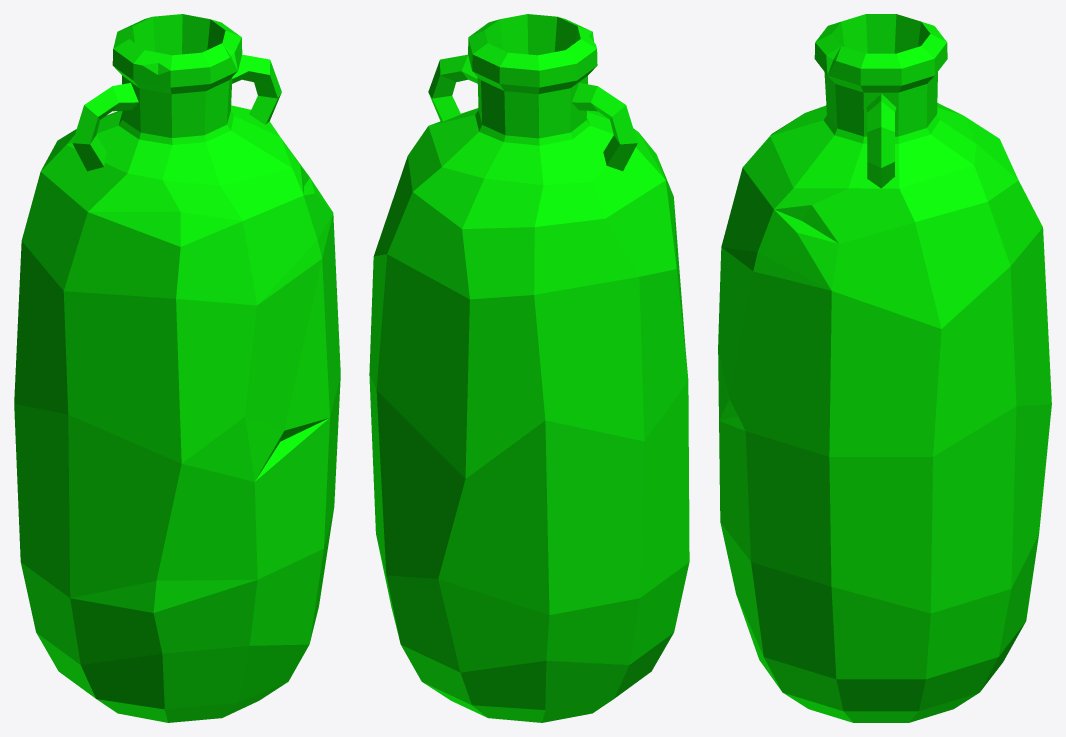
Rendered from SM_Vase_Ceramic_Tall_B_Fantasy.fbx.
3 renders of one model, left to right at view 1: azimuth 30°, elevation 25°; view 2: azimuth 150°, elevation 25°; view 3: azimuth 270°, elevation 25°, orthographic.
Parts seen in each view (by area): view 1: vase-ceramic-tall-b-fantasy; view 2: vase-ceramic-tall-b-fantasy; view 3: vase-ceramic-tall-b-fantasy.
Boxes of the visible parts, <box> form: vase-ceramic-tall-b-fantasy: <box>14,14,340,722</box>; vase-ceramic-tall-b-fantasy: <box>369,14,689,722</box>; vase-ceramic-tall-b-fantasy: <box>718,14,1051,722</box>.
Bounding box in the file's own units: 0.3882 × 0.8776 × 0.4066.
